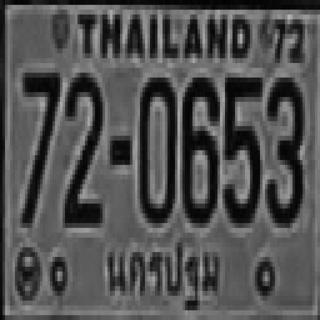N00: (138, 75, 175, 221)
N02: (62, 70, 100, 221)
N03: (265, 73, 302, 223)
N05: (222, 73, 260, 223)
N06: (180, 73, 218, 223)
N07: (20, 68, 58, 223)
P28: (104, 237, 220, 312)
